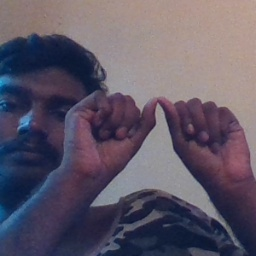A: (81, 85, 236, 176)
